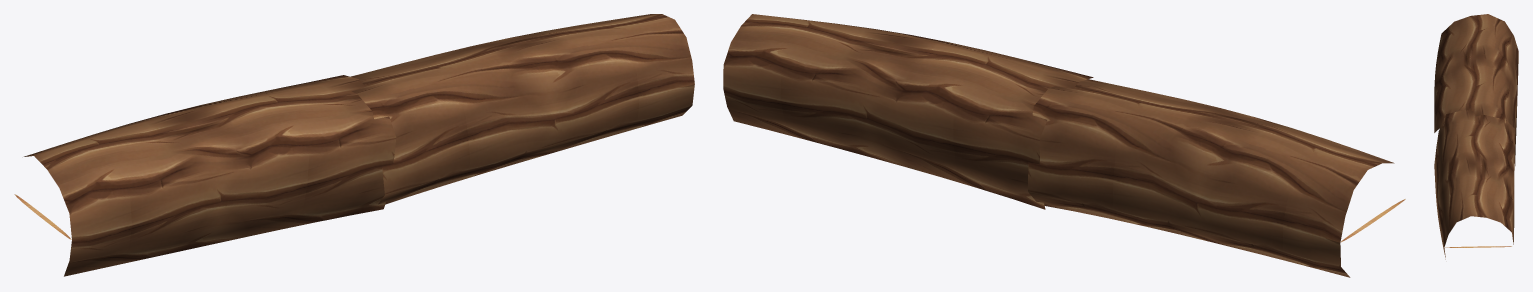
The model's file is log1.gltf.
The picture shows the model from 3 angles, left to right: view 1: azimuth 30°, elevation 25°; view 2: azimuth 150°, elevation 25°; view 3: azimuth 270°, elevation 25°; orthographic projection. The views are drawn at different scales.
Visible parts, largest first — view 1: log1_bark_LOD0; view 2: log1_bark_LOD0; view 3: log1_bark_LOD0, log1_cap_LOD0.
Boxes of the visible parts, box(x1,y1,x2,y2) form: log1_bark_LOD0: box(24, 14, 694, 276); log1_bark_LOD0: box(723, 14, 1394, 277); log1_bark_LOD0: box(1434, 14, 1518, 259); log1_cap_LOD0: box(1445, 246, 1511, 247).
Size of what is drawn, in the model's own units: 2.18 by 0.4029 by 0.3935.
2 materials, 2 textured.
